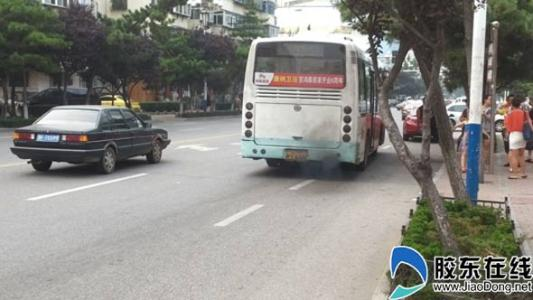smoke: (293, 147, 369, 195)
